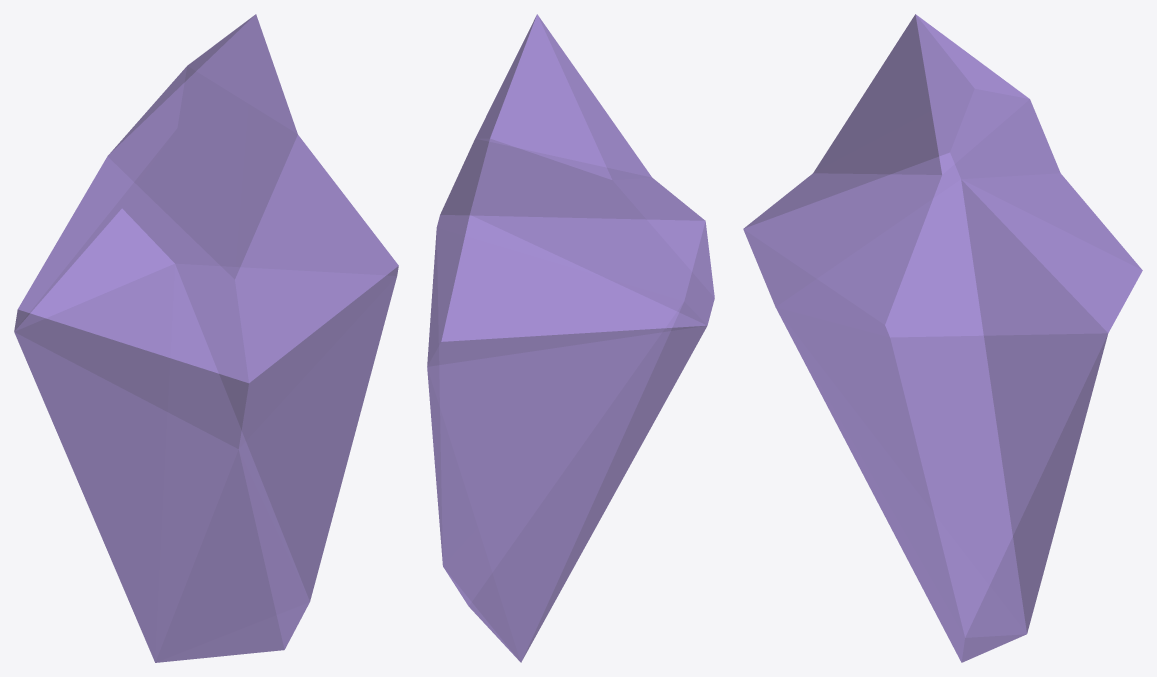
Rendered from Crystal_New_14.fbx.
3 renders of one model, left to right at view 1: azimuth 30°, elevation 25°; view 2: azimuth 150°, elevation 25°; view 3: azimuth 270°, elevation 25°, orthographic. The views are drawn at different scales.
Parts seen in each view (by area): view 1: Model; view 2: Model; view 3: Model.
Part boxes in pixels (left/top/right/bottom): Model: left=14, top=14, right=398, bottom=662; Model: left=427, top=14, right=714, bottom=662; Model: left=743, top=14, right=1142, bottom=662.
Bounding box in the file's own units: 228 × 429 × 243.
